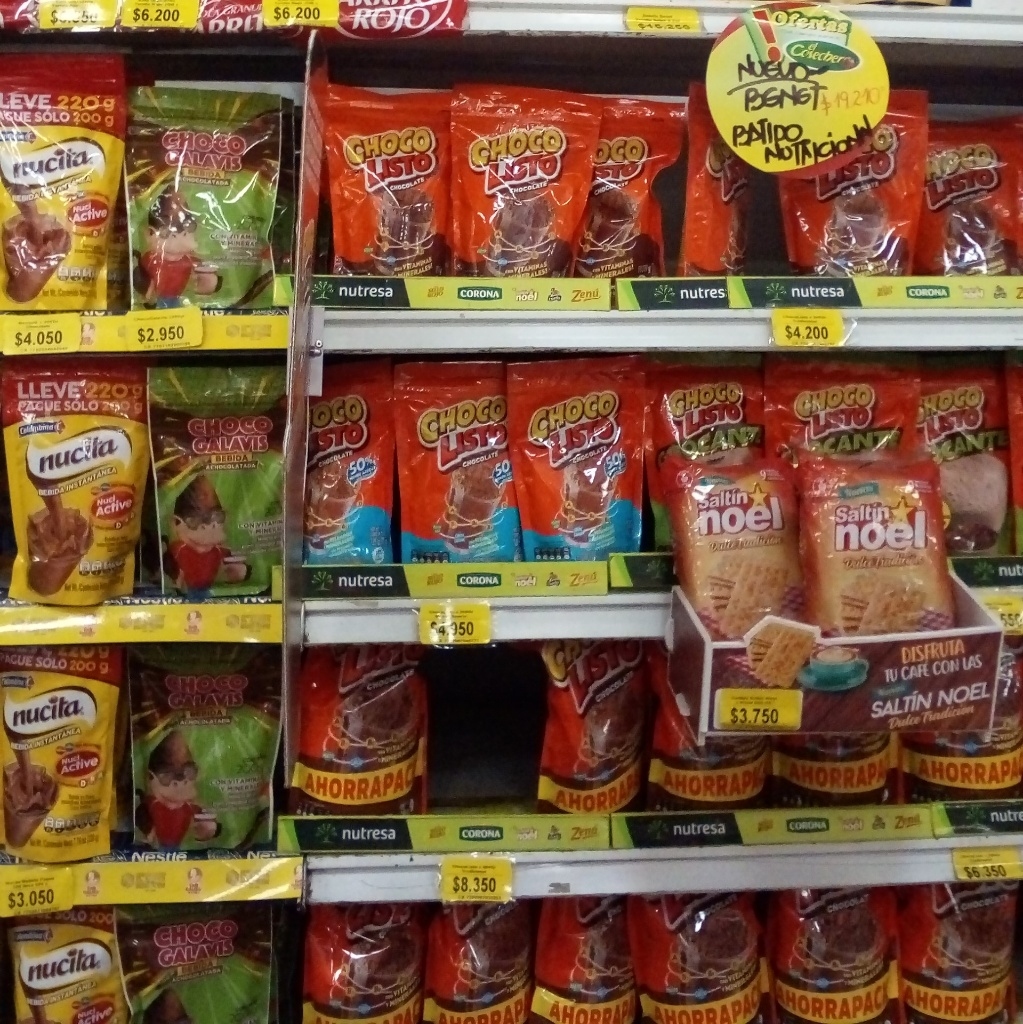COL0170103DYP44000: (289, 644, 433, 821)
COL0170104DYP20000: (306, 360, 403, 564)
